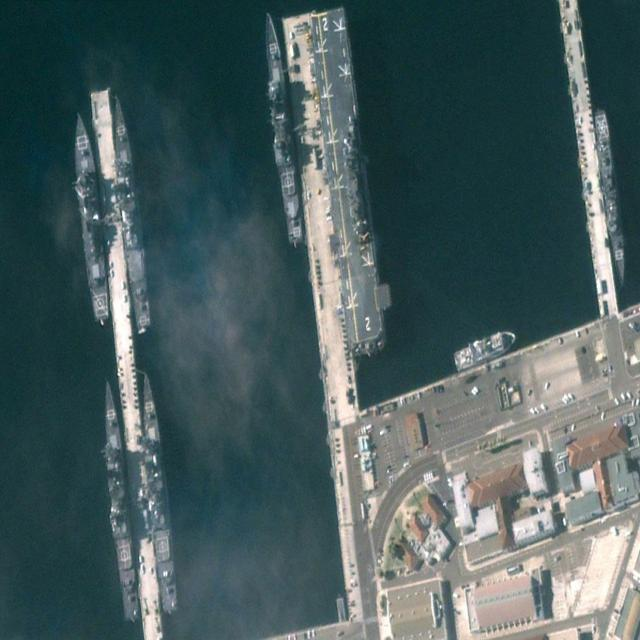Cruiser: (133, 366, 181, 617), (105, 93, 155, 333), (93, 377, 141, 625), (257, 7, 305, 247)
Destroyer: (66, 109, 112, 323)
Frigate: (592, 106, 630, 288)
Landing: (307, 2, 397, 360)
Other Ship: (452, 325, 518, 374)
